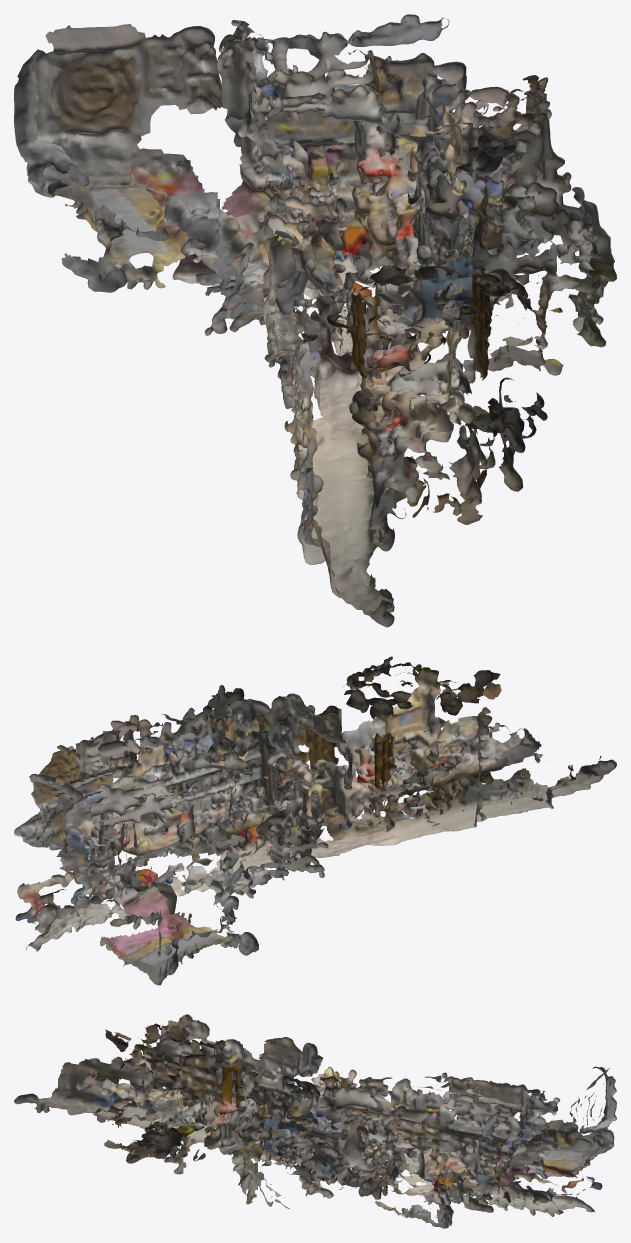
The model's file is room.glb.
3 renders of one model, top to bottom at view 1: azimuth 30°, elevation 25°; view 2: azimuth 150°, elevation 25°; view 3: azimuth 270°, elevation 25°, orthographic. The views are drawn at different scales.
Size of the model in its own units: 8.28 by 3.4 by 13.62.
